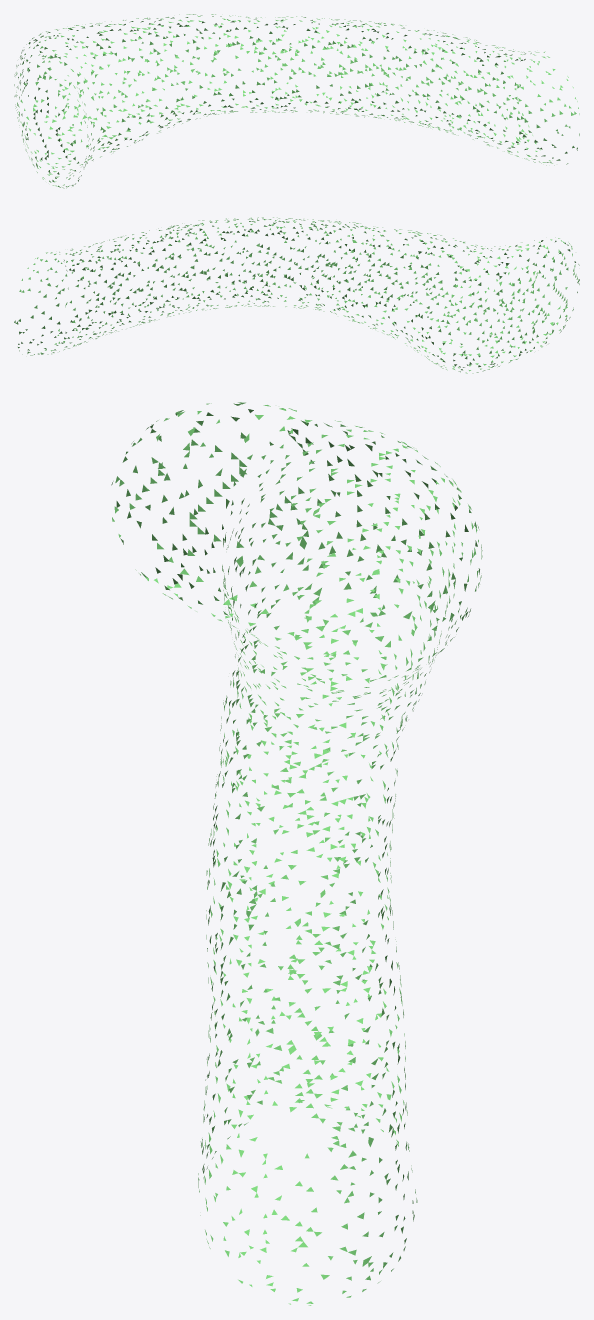
Rendered from morph_017.glb.
3 renders of one model, top to bottom at view 1: azimuth 30°, elevation 25°; view 2: azimuth 150°, elevation 25°; view 3: azimuth 270°, elevation 25°, orthographic. The views are drawn at different scales.
Size of the model in its own units: 104 by 43.43 by 33.58.
